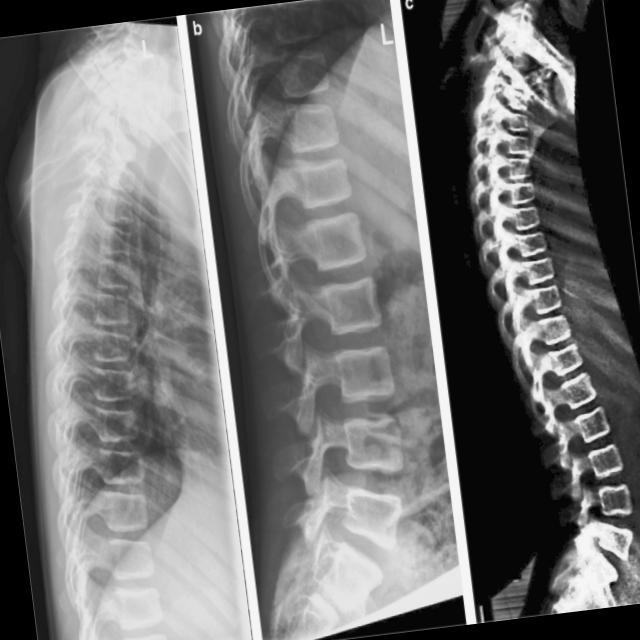Compression-Crush Fracutre: (270, 322, 365, 464)
